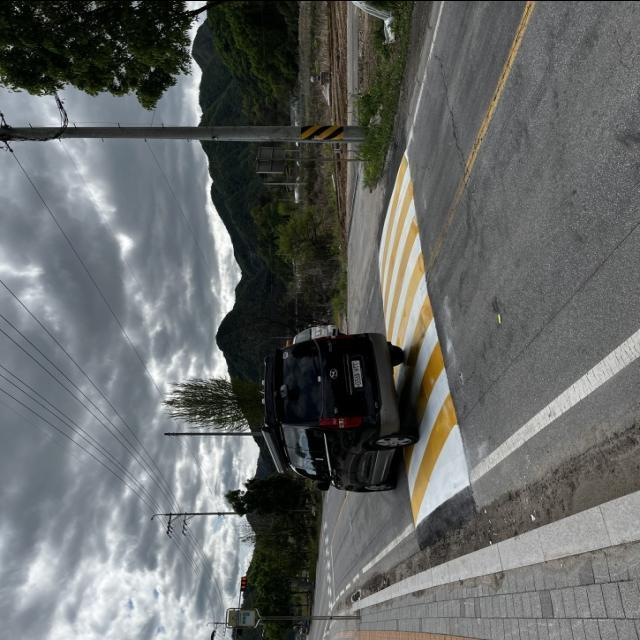speedbreaker: (358, 141, 476, 535)
